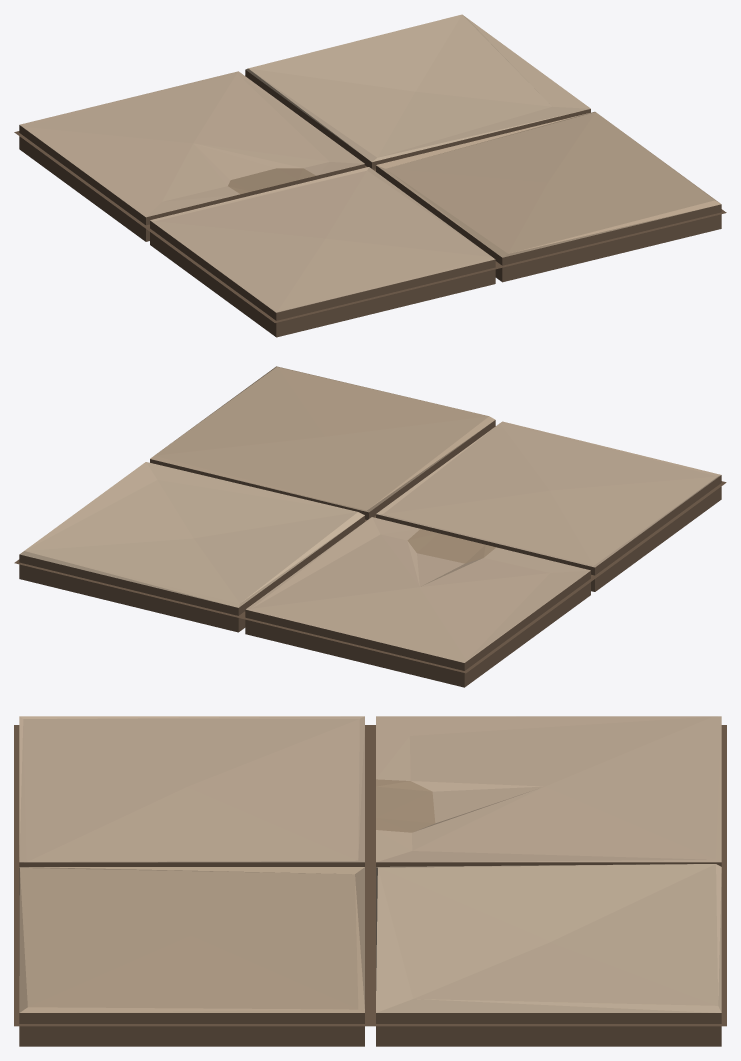
Rendered from SM_Ground_PavingTile_05.fbx.
3 views of the same model, one above another, from view 1: azimuth 30°, elevation 25°; view 2: azimuth 150°, elevation 25°; view 3: azimuth 270°, elevation 25° (orthographic). The views are drawn at different scales.
Parts seen in each view (by area): view 1: SM_Ground_PavingTile_05; view 2: SM_Ground_PavingTile_05; view 3: SM_Ground_PavingTile_05.
Boxes of the visible parts, bbox=[...] form: SM_Ground_PavingTile_05: bbox=[14, 14, 726, 337]; SM_Ground_PavingTile_05: bbox=[14, 366, 726, 687]; SM_Ground_PavingTile_05: bbox=[14, 716, 726, 1046].
Size of the model in its own units: 1 by 0.0593 by 1.
1 material, 1 textured.
